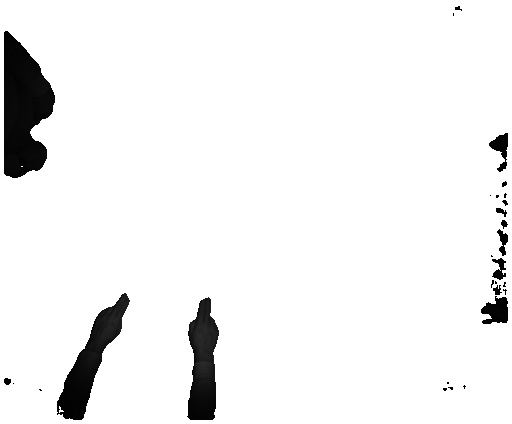hand: (89, 288, 135, 349), (185, 296, 223, 358)
